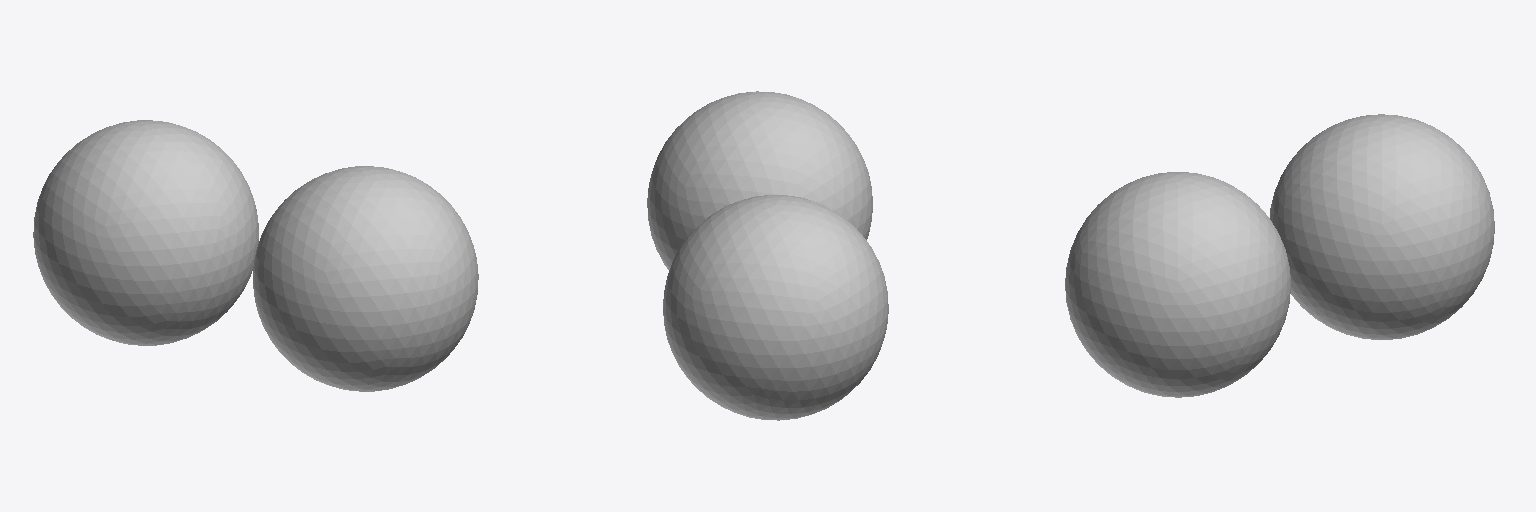
The model's file is twoSpheresClose.obj.
3 views of the same model, side by side, from view 1: azimuth 30°, elevation 25°; view 2: azimuth 150°, elevation 25°; view 3: azimuth 270°, elevation 25° (orthographic).
Visible parts, largest first — view 1: Icosphere.001, Icosphere.001_Icosphere.002; view 2: Icosphere.001_Icosphere.002, Icosphere.001; view 3: Icosphere.001, Icosphere.001_Icosphere.002.
Boxes of the visible parts, x1=… form: Icosphere.001: x1=253, y1=166, x2=478, y2=391; Icosphere.001_Icosphere.002: x1=33, y1=120, x2=258, y2=345; Icosphere.001_Icosphere.002: x1=663, y1=195, x2=888, y2=420; Icosphere.001: x1=647, y1=91, x2=872, y2=269; Icosphere.001: x1=1065, y1=172, x2=1290, y2=397; Icosphere.001_Icosphere.002: x1=1270, y1=114, x2=1494, y2=339.
Bounding box in the file's own units: 1.07 × 0.6662 × 1.27.